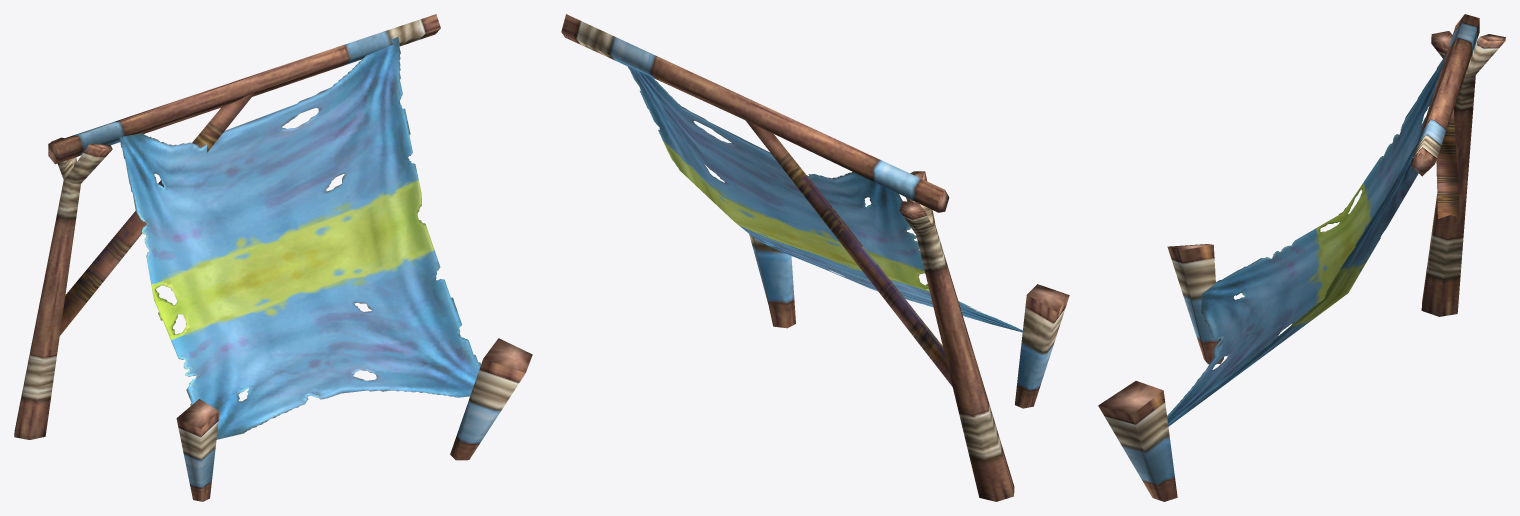
The model's file is goblintent03.obj.
3 renders of one model, left to right at view 1: azimuth 30°, elevation 25°; view 2: azimuth 150°, elevation 25°; view 3: azimuth 270°, elevation 25°, orthographic. The views are drawn at different scales.
Parts seen in each view (by area): view 1: goblintent03; view 2: goblintent03; view 3: goblintent03.
Boxes of the visible parts, x1,y1,x2,y2 form: goblintent03: (14, 14, 532, 501); goblintent03: (561, 14, 1069, 501); goblintent03: (1098, 14, 1505, 501).
Size of the model in its own units: 4.71 by 3.7 by 3.49.
